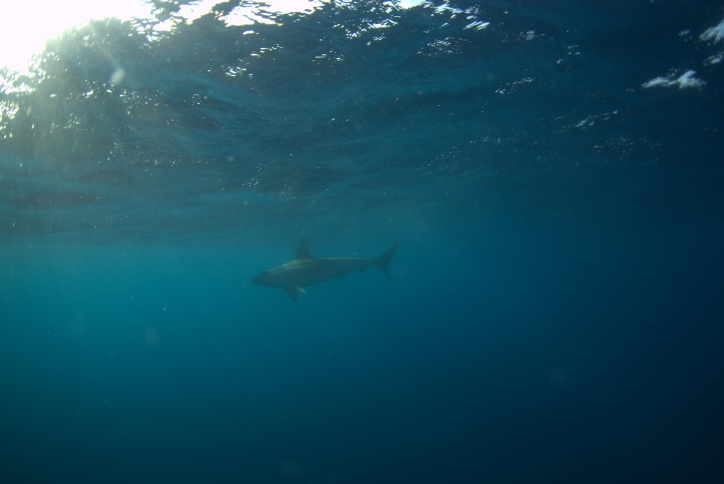Hammer: (217, 207, 418, 307)
